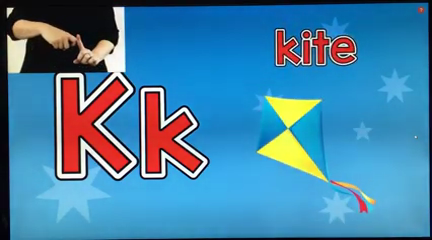K: (34, 14, 104, 69)
